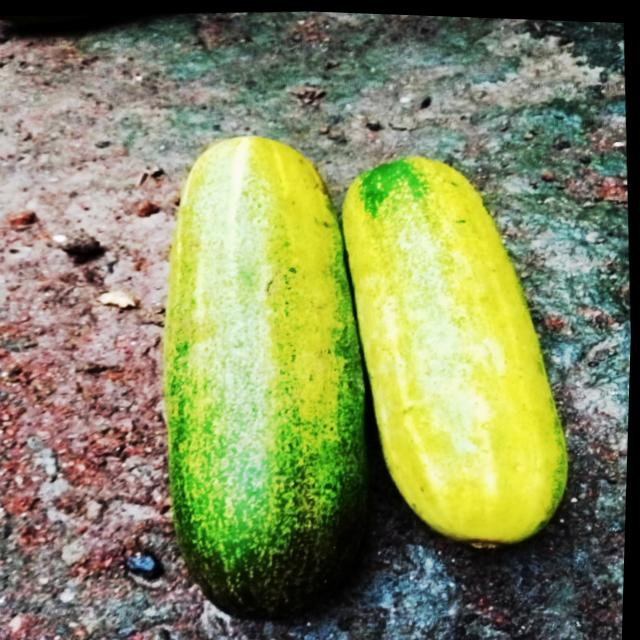Fresh-Cucumber: (144, 124, 386, 627), (328, 142, 585, 558)
